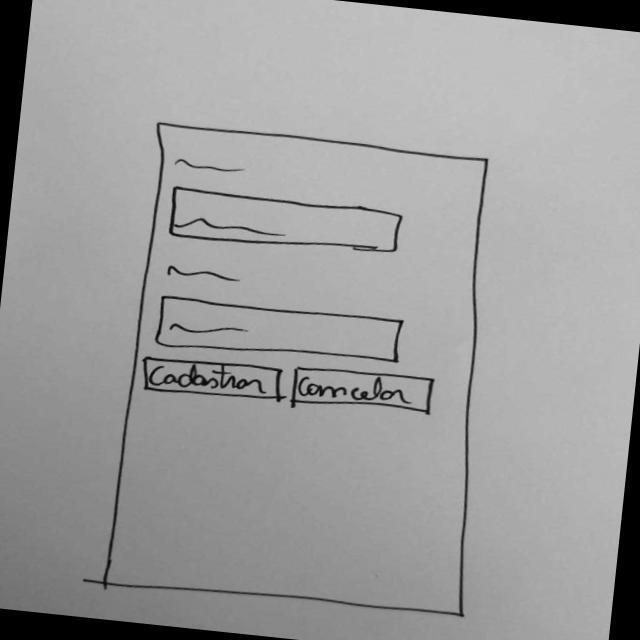button: (286, 363, 441, 420), (138, 352, 288, 407)
container: (88, 117, 514, 628)
input: (152, 292, 409, 374), (164, 182, 408, 260)
text: (169, 152, 255, 180), (163, 264, 244, 284)
